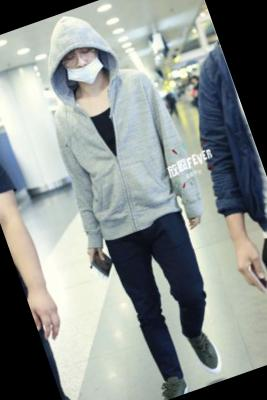mask_weared_incorrect: (59, 43, 109, 91)
